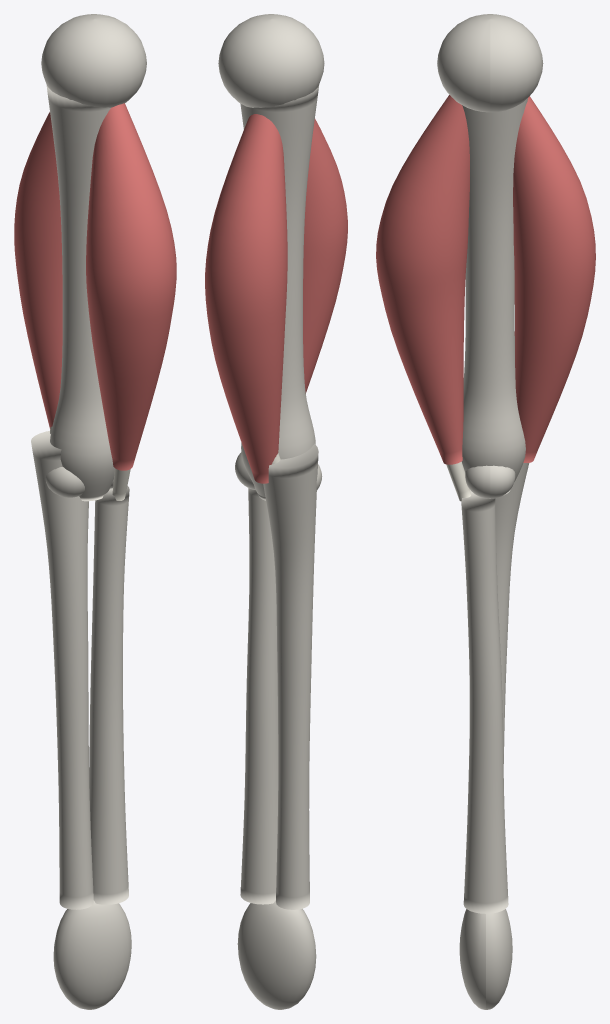
File: arm-assembly.glb
3 views of the same model, side by side, from view 1: azimuth 30°, elevation 25°; view 2: azimuth 150°, elevation 25°; view 3: azimuth 270°, elevation 25° (orthographic).
Visible parts, largest first — view 1: biceps, humerus, ulna, radius, triceps, hand; view 2: triceps, humerus, ulna, radius, biceps, hand; view 3: humerus, biceps, triceps, radius, hand, ulna.
Part boxes in pixels (bbox=[...]): biceps: bbox=[86, 103, 176, 500]; humerus: bbox=[41, 14, 146, 501]; ulna: bbox=[31, 431, 93, 909]; radius: bbox=[89, 486, 129, 904]; triceps: bbox=[14, 112, 62, 433]; hand: bbox=[53, 900, 131, 1009]; triceps: bbox=[205, 114, 287, 483]; humerus: bbox=[218, 14, 324, 500]; ulna: bbox=[263, 443, 318, 909]; radius: bbox=[240, 488, 278, 904]; biceps: bbox=[303, 119, 347, 393]; hand: bbox=[237, 900, 316, 1009]; humerus: bbox=[437, 14, 543, 498]; biceps: bbox=[376, 95, 471, 501]; triceps: bbox=[513, 96, 595, 462]; radius: bbox=[461, 490, 508, 913]; hand: bbox=[459, 909, 512, 1009]; ulna: bbox=[495, 463, 529, 763].
Size of the model in its own units: 0.275 by 2.68 by 0.5389.
